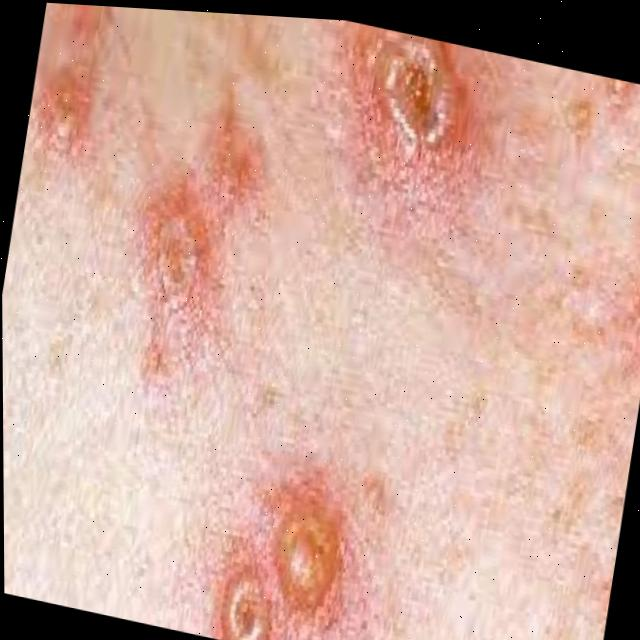Shingles: (212, 503, 347, 640), (36, 2, 125, 144), (373, 30, 467, 154), (141, 193, 216, 315)
